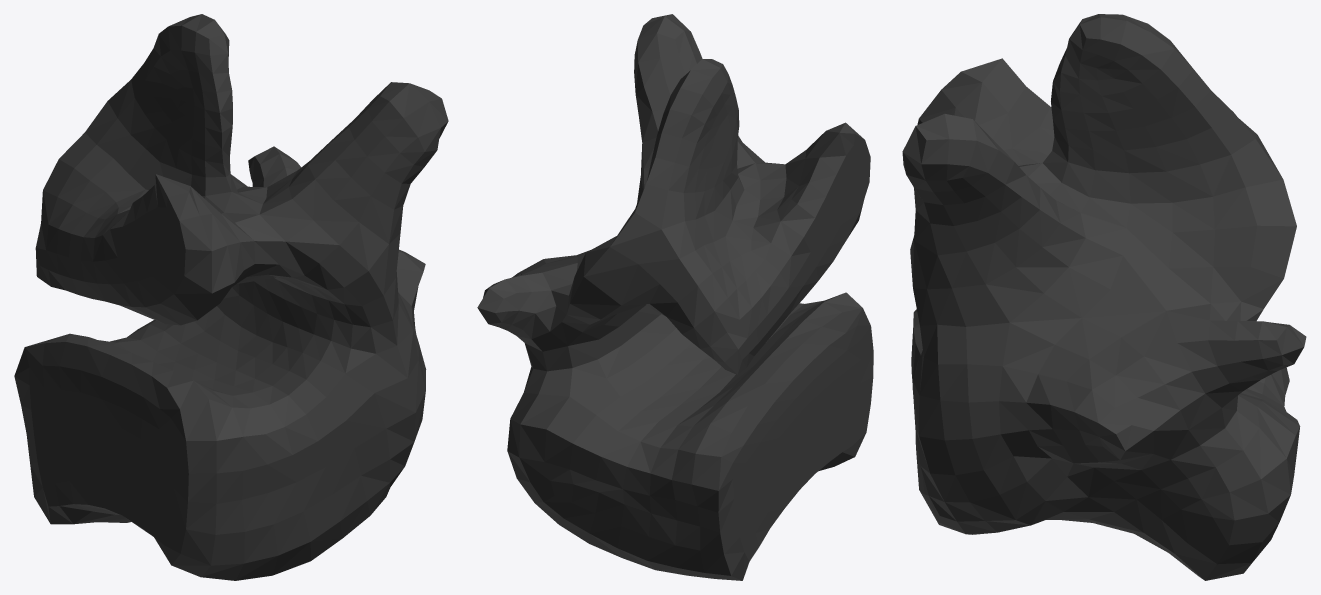
3 views of the same model, side by side, from view 1: azimuth 30°, elevation 25°; view 2: azimuth 150°, elevation 25°; view 3: azimuth 270°, elevation 25° (orthographic). The views are drawn at different scales.
Parts seen in each view (by area): view 1: T12; view 2: T12; view 3: T12.
Boxes of the visible parts, x1=… form: T12: x1=14, y1=14, x2=448, y2=580; T12: x1=477, y1=14, x2=873, y2=580; T12: x1=902, y1=14, x2=1306, y2=580.
Bounding box in the file's own units: 0.00707 × 0.0109 × 0.00739.
Materials: 1 (1 with a texture image).
